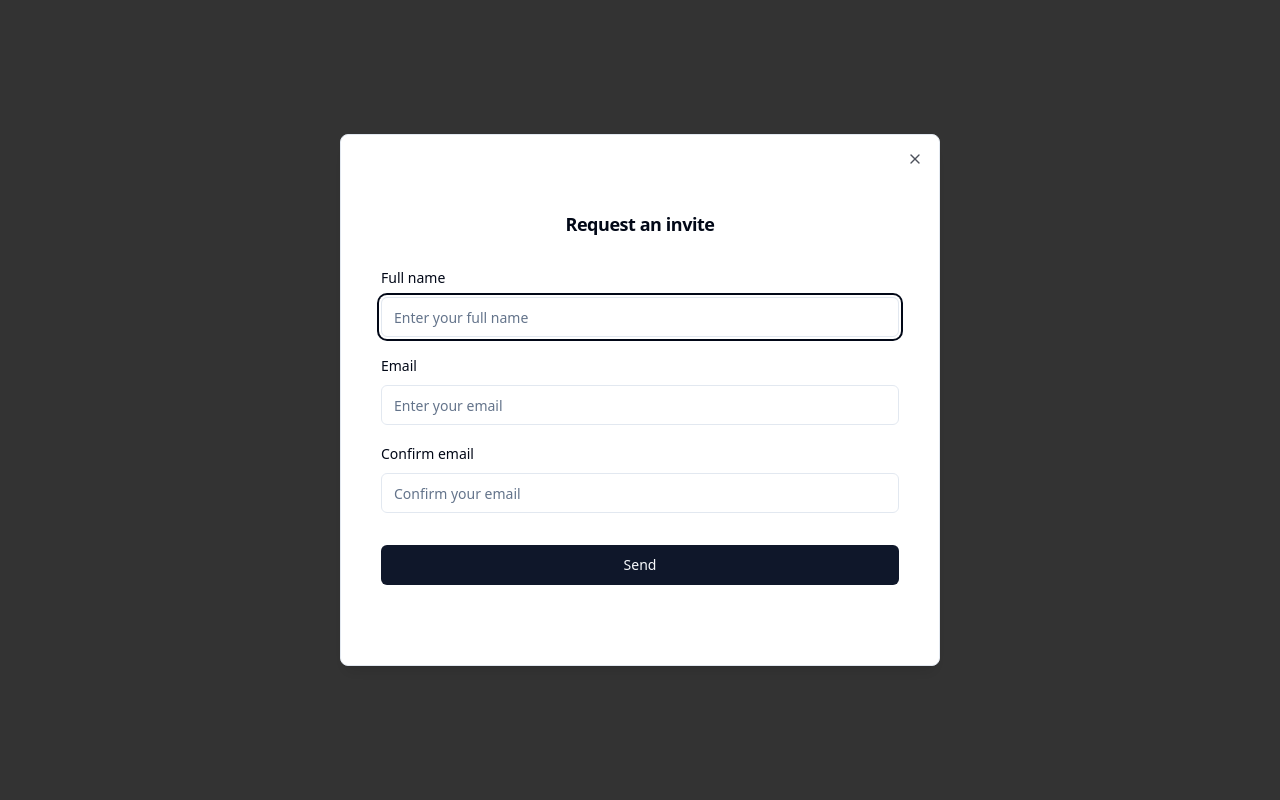
Test case: DialogModal › should show error if fullName is less than 3 characters
The image size is (1280, 800).
Type "ac" into the field named "fullName-input" at (640, 317), box [381,297,899,337]
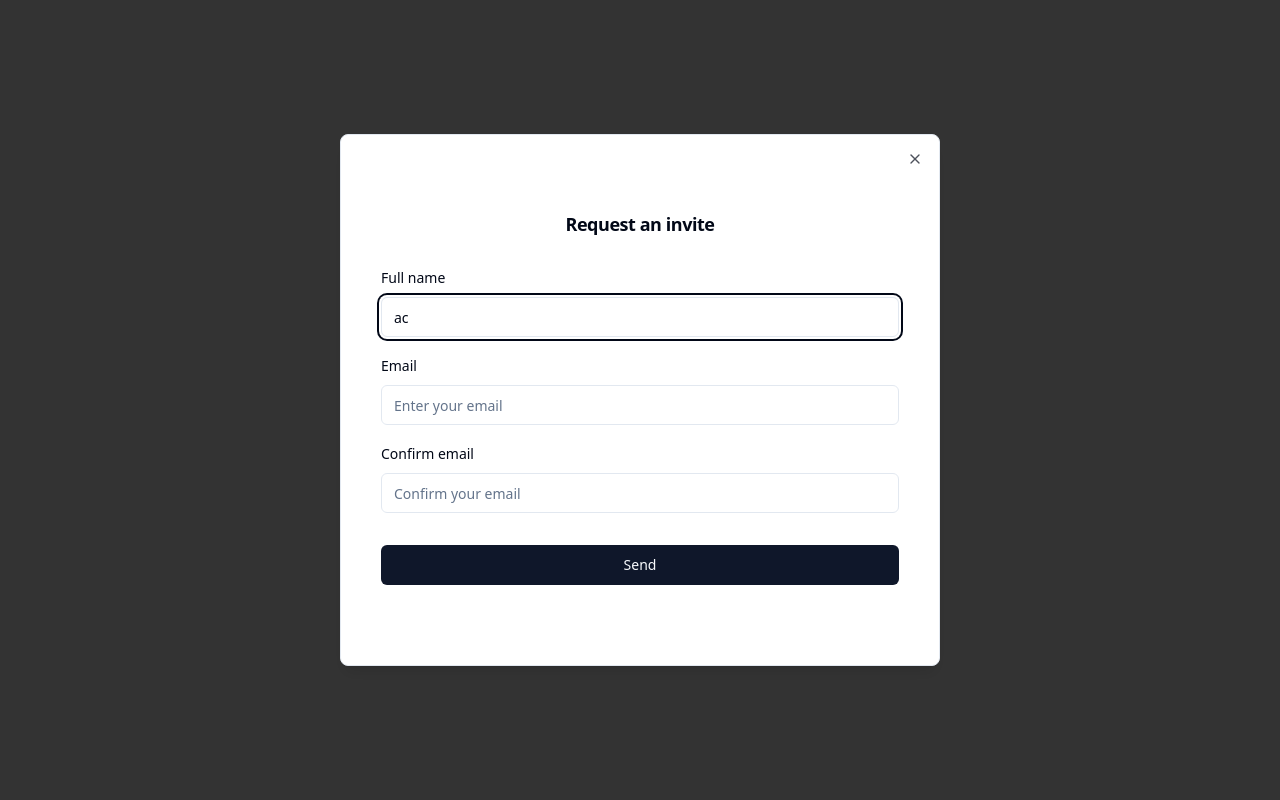
Click the button "Send" at (640, 565), box [381,545,899,585]
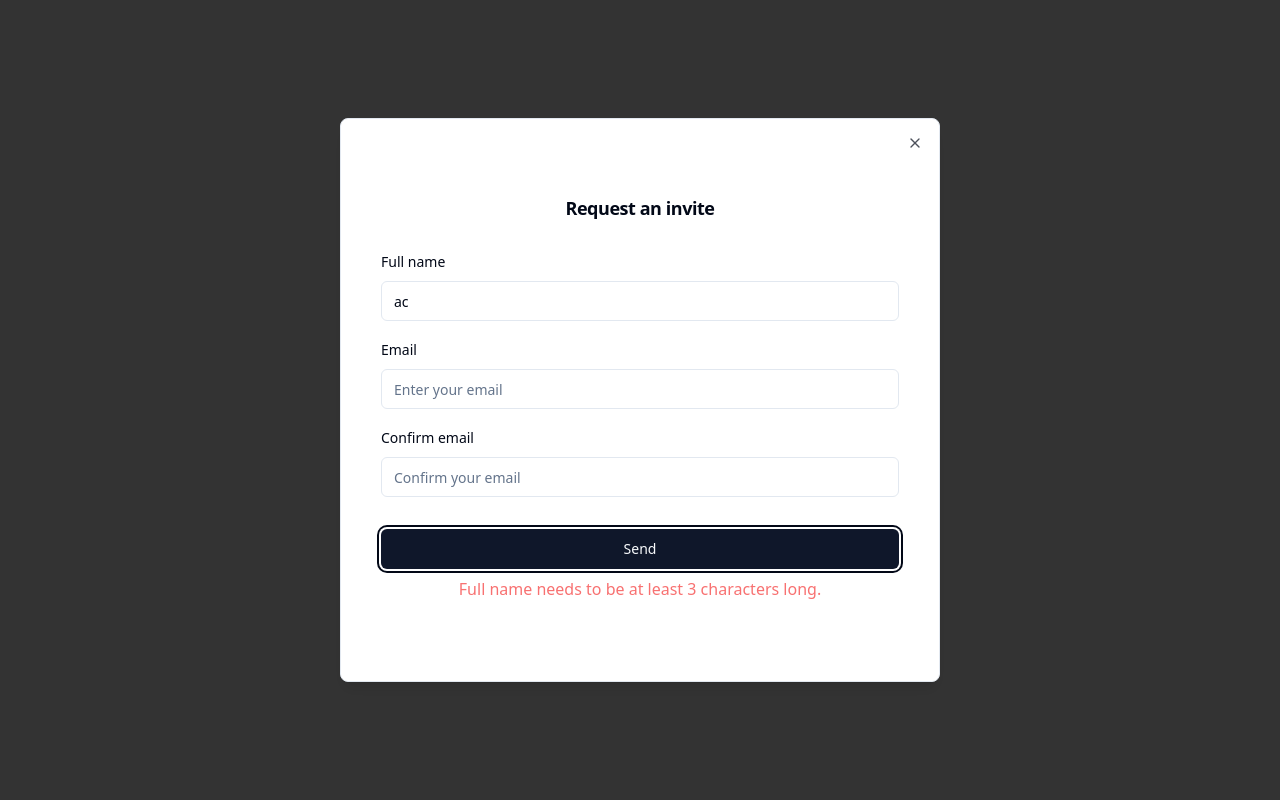
Expected: the text "Full name needs to be at least 3 characters long." is shown, [459,578,821,600]
